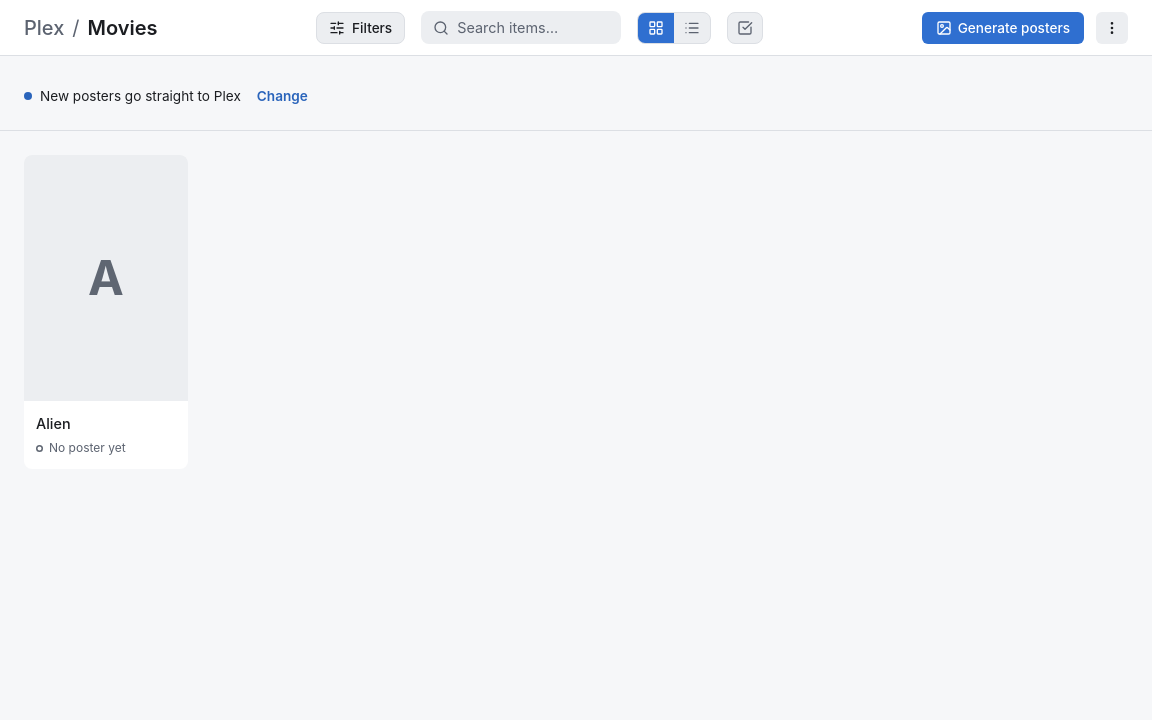
Scenario: LibraryPage — working through a large library › says a generate run will upload when the library uploads automatically
Expected: the text "New posters go straight to Plex" is shown, [24, 86, 241, 106]
What coordinates should you click on to do the following:
click the button "Generate posters"
I would click on:
 (1003, 28)
Its box is [922, 12, 1084, 44].
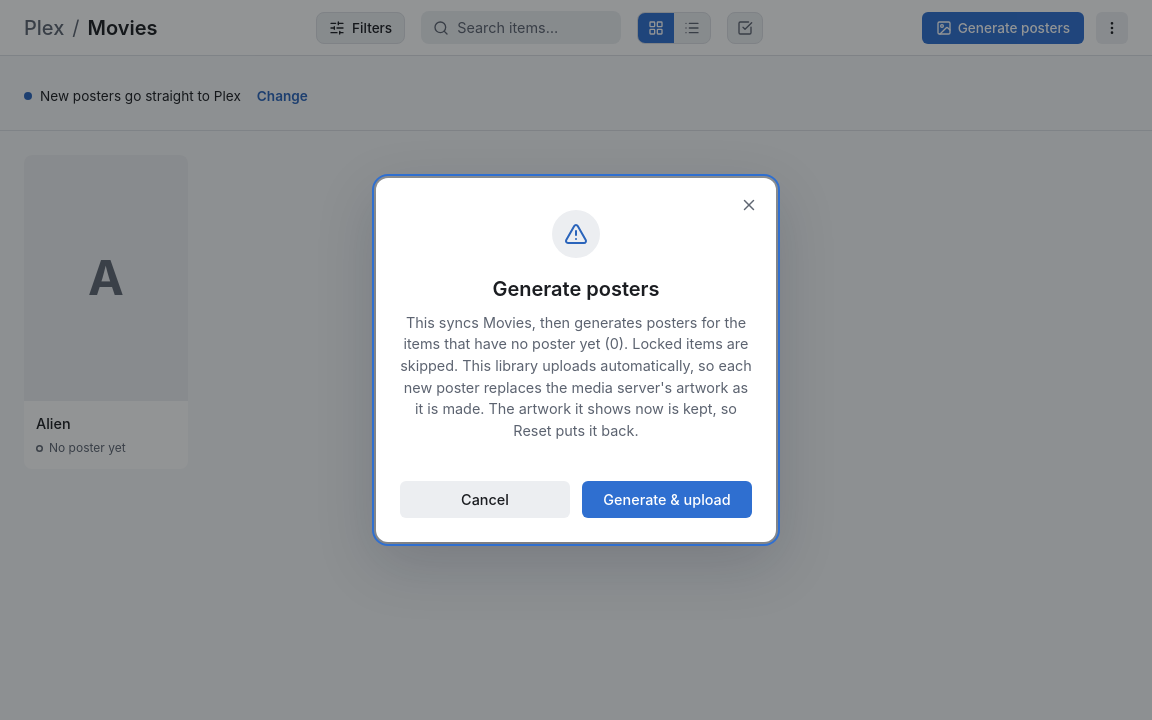
Result: the button "Generate & upload" is shown at [582, 481, 752, 518]
